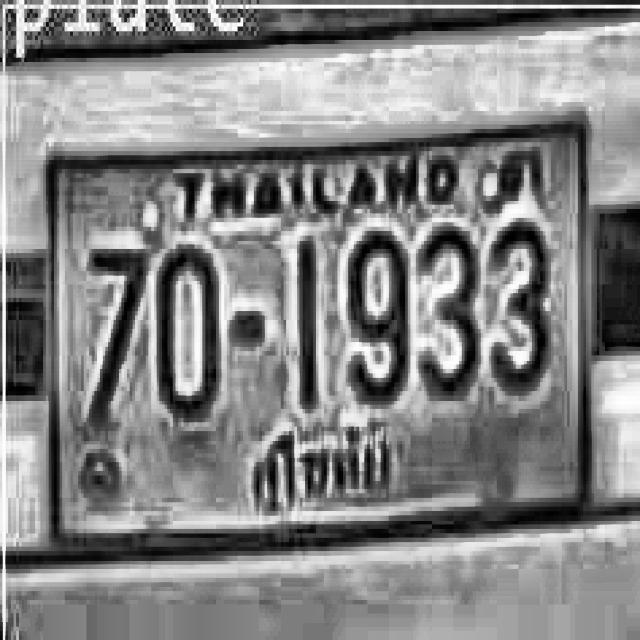license-plate: (37, 107, 631, 584)
